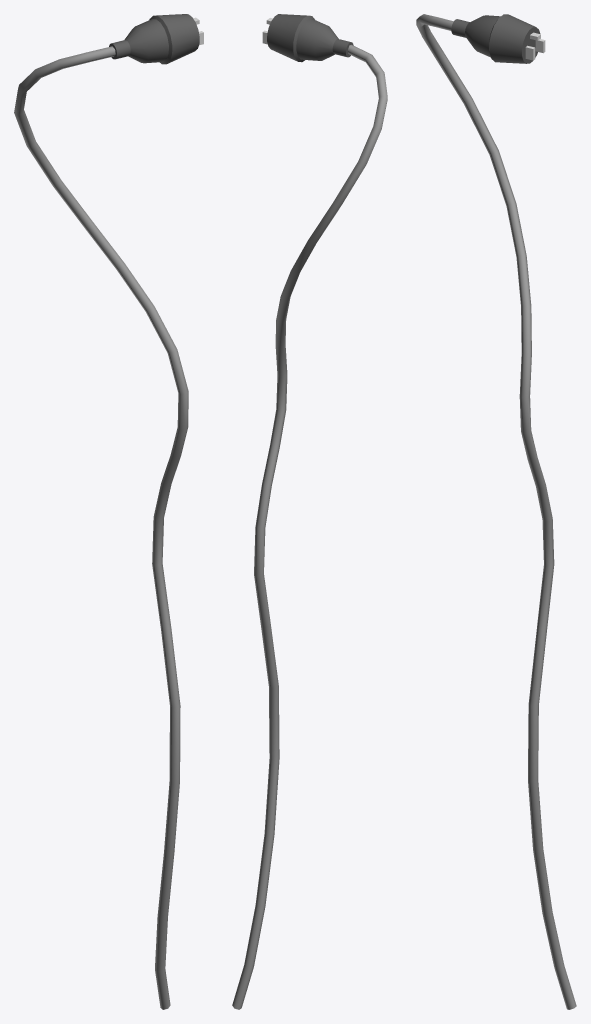
The model's file is Plug02.fbx.
3 renders of one model, left to right at view 1: azimuth 30°, elevation 25°; view 2: azimuth 150°, elevation 25°; view 3: azimuth 330°, elevation 25°, orthographic. The views are drawn at different scales.
Visible parts, largest first — view 1: Plug02; view 2: Plug02; view 3: Plug02.
Boxes of the visible parts, bbox=[...] form: Plug02: bbox=[14, 14, 203, 1009]; Plug02: bbox=[232, 14, 387, 1009]; Plug02: bbox=[416, 14, 576, 1009].
Size of the model in its own units: 0.168 by 0.1188 by 1.07.
